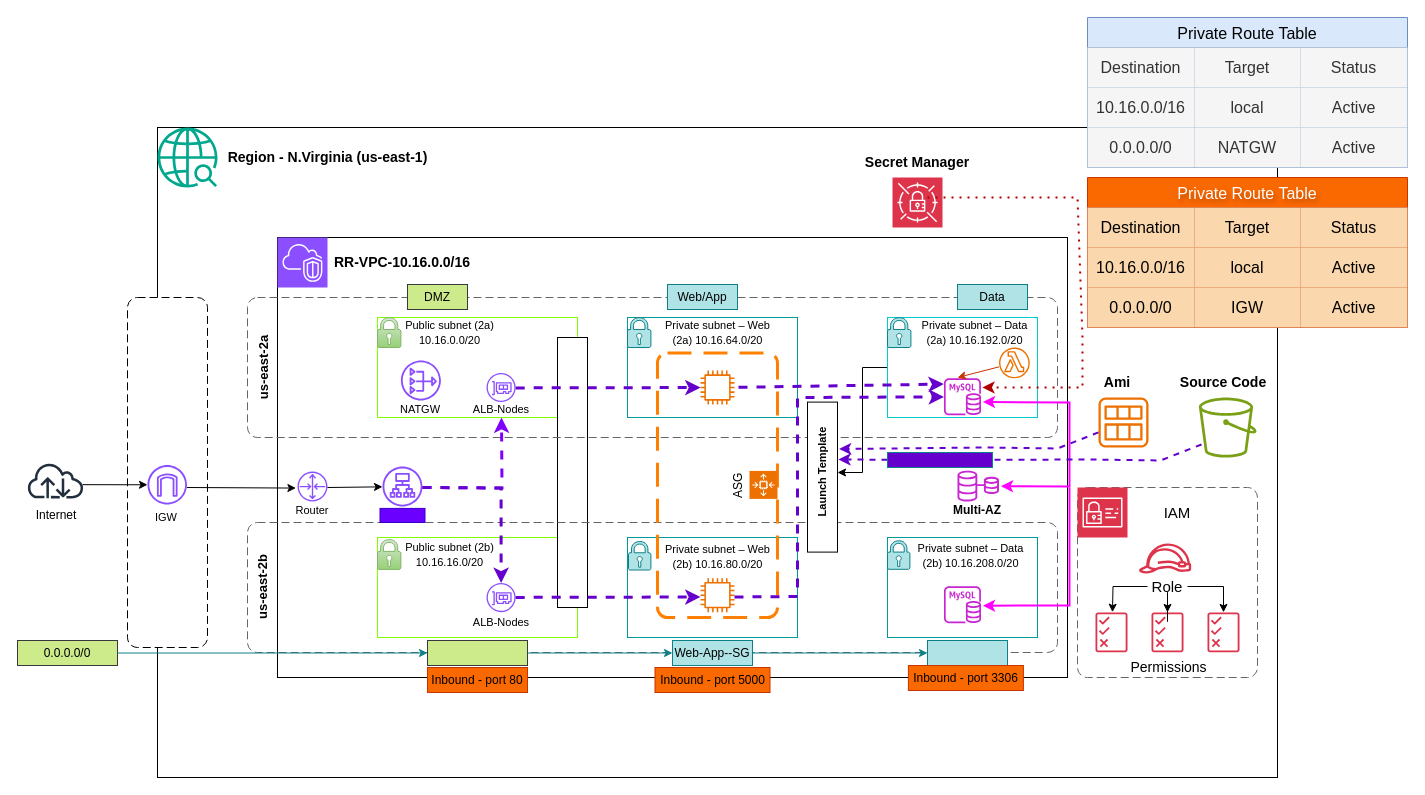
The diagram is 1425 pixels wide and 795 high, and some of its shapes have lost their labels. The shapes that lost their labels are listed below. From the top down, each one's box as (x1, y1, x2, y2) in pixels, then its label:
(556, 336, 588, 608): Target Group - Instances - PORT 5000 (HTTP)
(886, 452, 992, 468): User Data Script
(379, 507, 425, 522): ALB
(426, 640, 528, 666): LoadBalancer-SG
(926, 640, 1008, 666): Database-SG
